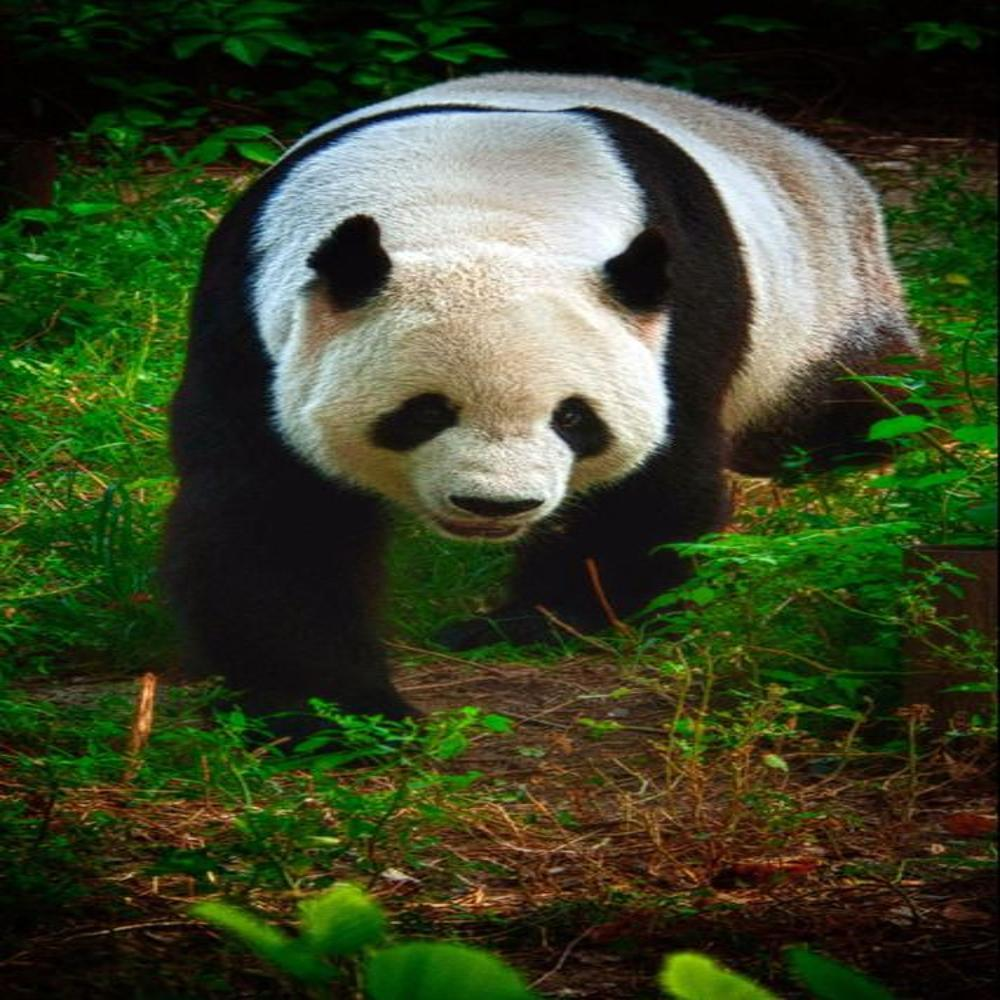panda: (160, 70, 928, 718)
